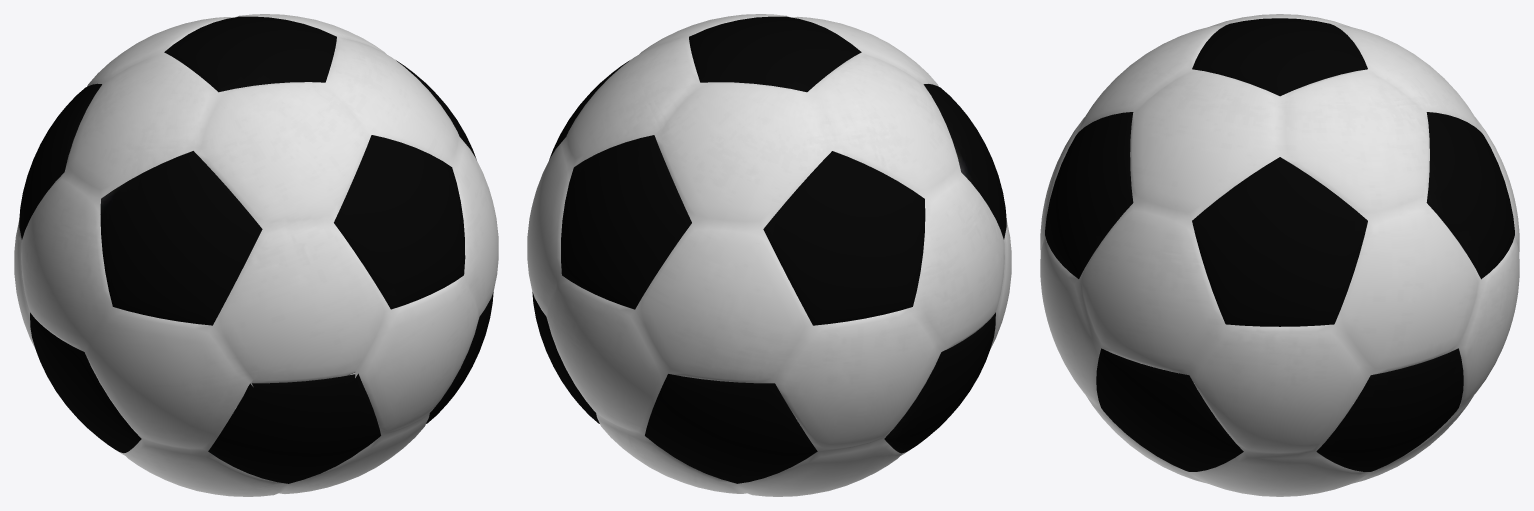
Rendered from realsoccerball.glb.
3 renders of one model, left to right at view 1: azimuth 30°, elevation 25°; view 2: azimuth 150°, elevation 25°; view 3: azimuth 270°, elevation 25°, orthographic.
Visible parts, largest first — view 1: Object_3, Object_2; view 2: Object_3, Object_2; view 3: Object_3, Object_2.
Part boxes in pixels (box(x1,y1,x2,y2)): Object_3: box(14, 14, 498, 496); Object_2: box(19, 16, 493, 483); Object_3: box(527, 14, 1011, 496); Object_2: box(532, 16, 1006, 483); Object_3: box(1040, 14, 1519, 496); Object_2: box(1045, 18, 1514, 471).
Size of the model in its own units: 0.2192 by 0.22 by 0.2174.
Materials: 2 (2 with a texture image).
